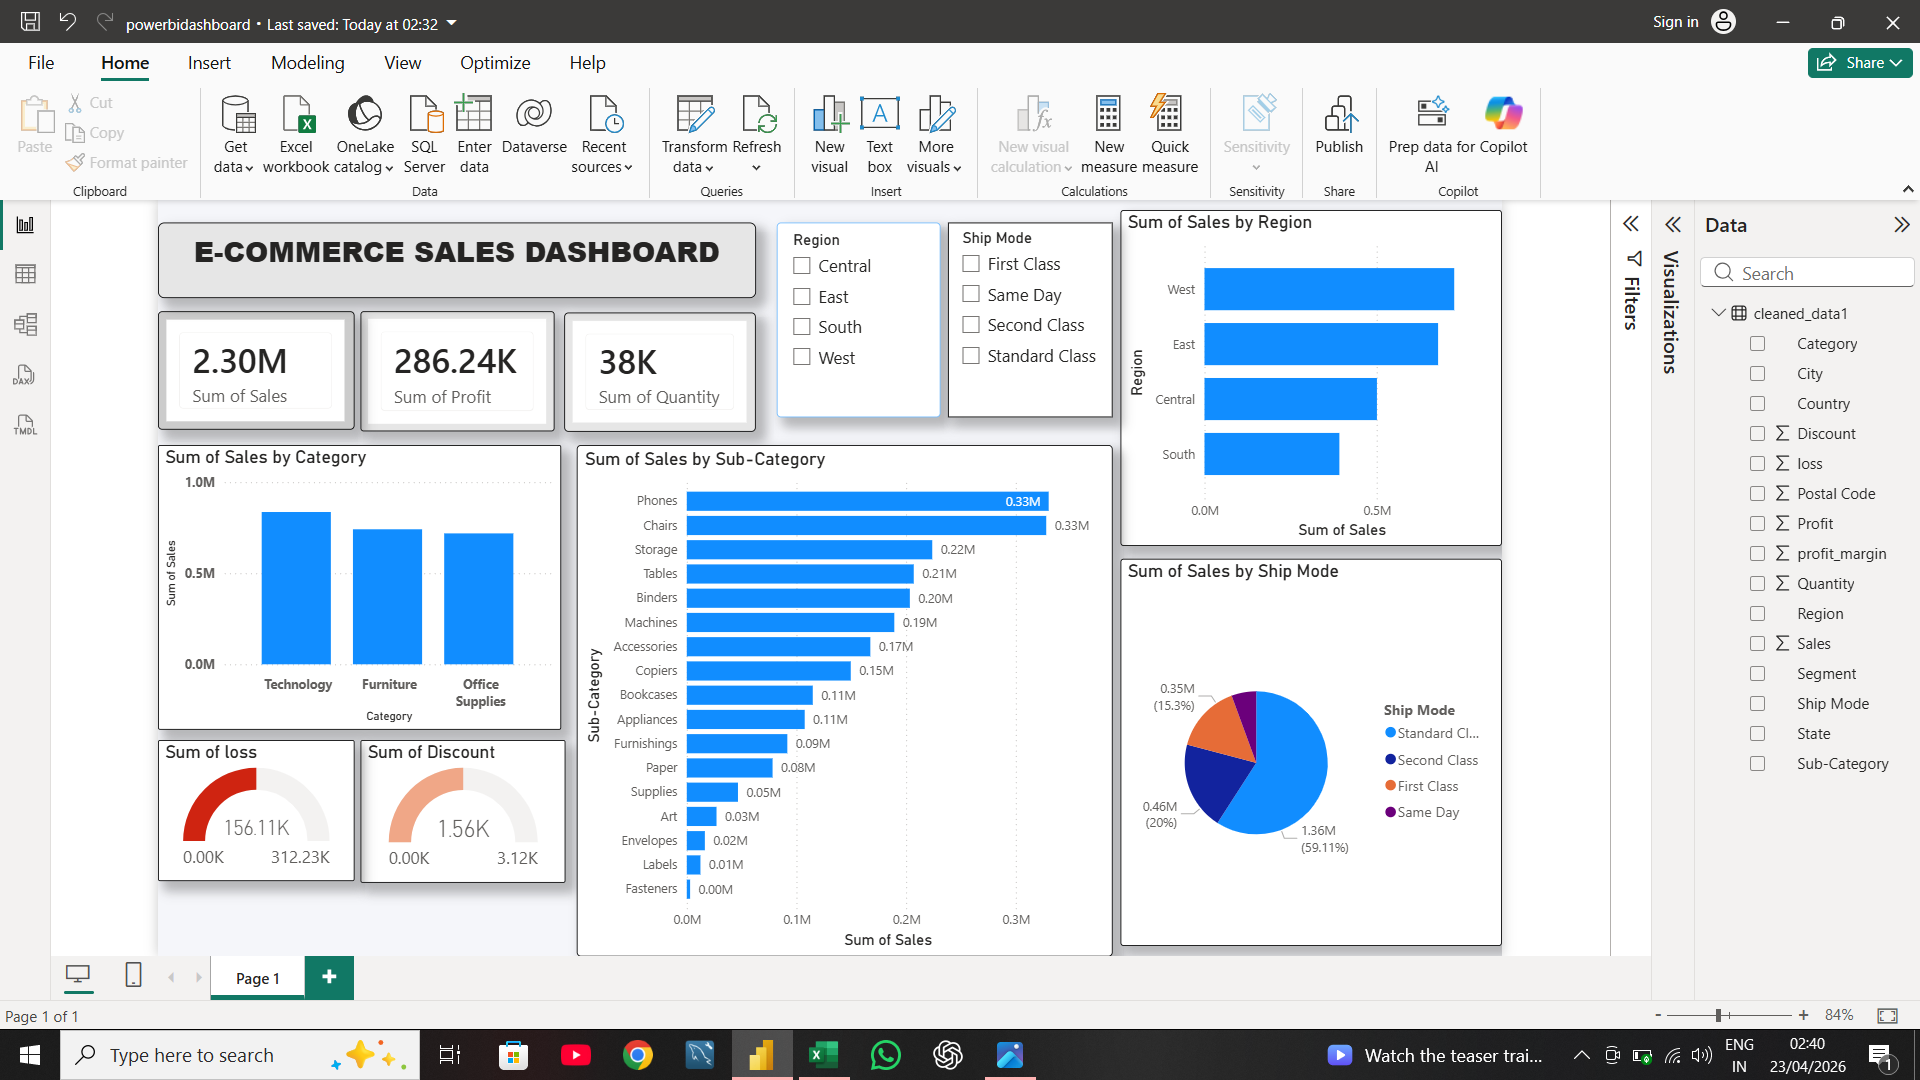

The page's visual inventory and layout, read from the dashboard file:
{"tool":"powerbi","page":{"name":"Page 1","canvas":[1280,720],"ordinal":0},"visuals":[{"type":"cardVisual","fields":{"Data":["Sum(cleaned_data1.Profit)"]},"box":[192.9,106,184.5,114.3],"z":0},{"type":"cardVisual","fields":{"Data":["Sum(cleaned_data1.Sales)"]},"box":[0,106,186.9,113.1],"z":1000},{"type":"cardVisual","fields":{"Data":["Sum(cleaned_data1.Quantity)"]},"box":[387.3,107.4,182.2,113.4],"z":2000},{"type":"textbox","box":[0,21.7,569.4,72.4],"z":3000},{"type":"columnChart","fields":{"Y":["Sum(cleaned_data1.Sales)"],"Category":["cleaned_data1.Category"]},"box":[0,232.8,383.6,271.4],"z":4000},{"type":"clusteredBarChart","fields":{"Category":["cleaned_data1.Region"],"Y":["Sum(cleaned_data1.Sales)"]},"box":[916.9,9.7,363.1,319.7],"z":5000},{"type":"gauge","fields":{"Y":["Sum(cleaned_data1.Discount)"]},"box":[192.9,514.3,195.2,135.7],"z":6000},{"type":"gauge","fields":{"Y":["Sum(cleaned_data1.loss)"]},"box":[0,514.3,186.9,134.5],"z":7000},{"type":"slicer","fields":{"Values":["cleaned_data1.Region"]},"box":[588.7,21.7,155.6,185.8],"z":8000},{"type":"slicer","fields":{"Values":["cleaned_data1.Ship Mode"]},"box":[752.8,21.7,156.8,185.8],"z":9000},{"type":"barChart","fields":{"Category":["cleaned_data1.Sub-Category"],"Y":["Sum(cleaned_data1.Sales)"]},"box":[399.3,232.8,510.3,487.4],"z":10000},{"type":"pieChart","fields":{"Category":["cleaned_data1.Ship Mode"],"Y":["Sum(cleaned_data1.Sales)"]},"box":[916.9,341.4,363.1,369.2],"z":11000}]}

Visuals, with their boxes on the page's 1280x720 design canvas (x1, y1, x2, y2). These are canvas units, not pixel positions in the 1920x1080 screenshot, which may show the page scaled, cropped or inside an application window:
cardVisual - Sum(cleaned_data1.Profit): pyautogui.locateOnScreen(193, 106, 377, 220)
cardVisual - Sum(cleaned_data1.Sales): pyautogui.locateOnScreen(0, 106, 187, 219)
cardVisual - Sum(cleaned_data1.Quantity): pyautogui.locateOnScreen(387, 107, 570, 221)
textbox: pyautogui.locateOnScreen(0, 22, 569, 94)
columnChart - Sum(cleaned_data1.Sales) x cleaned_data1.Category: pyautogui.locateOnScreen(0, 233, 384, 504)
clusteredBarChart - cleaned_data1.Region x Sum(cleaned_data1.Sales): pyautogui.locateOnScreen(917, 10, 1280, 329)
gauge - Sum(cleaned_data1.Discount): pyautogui.locateOnScreen(193, 514, 388, 650)
gauge - Sum(cleaned_data1.loss): pyautogui.locateOnScreen(0, 514, 187, 649)
slicer - cleaned_data1.Region: pyautogui.locateOnScreen(589, 22, 744, 208)
slicer - cleaned_data1.Ship Mode: pyautogui.locateOnScreen(753, 22, 910, 208)
barChart - cleaned_data1.Sub-Category x Sum(cleaned_data1.Sales): pyautogui.locateOnScreen(399, 233, 910, 720)
pieChart - cleaned_data1.Ship Mode x Sum(cleaned_data1.Sales): pyautogui.locateOnScreen(917, 341, 1280, 711)
